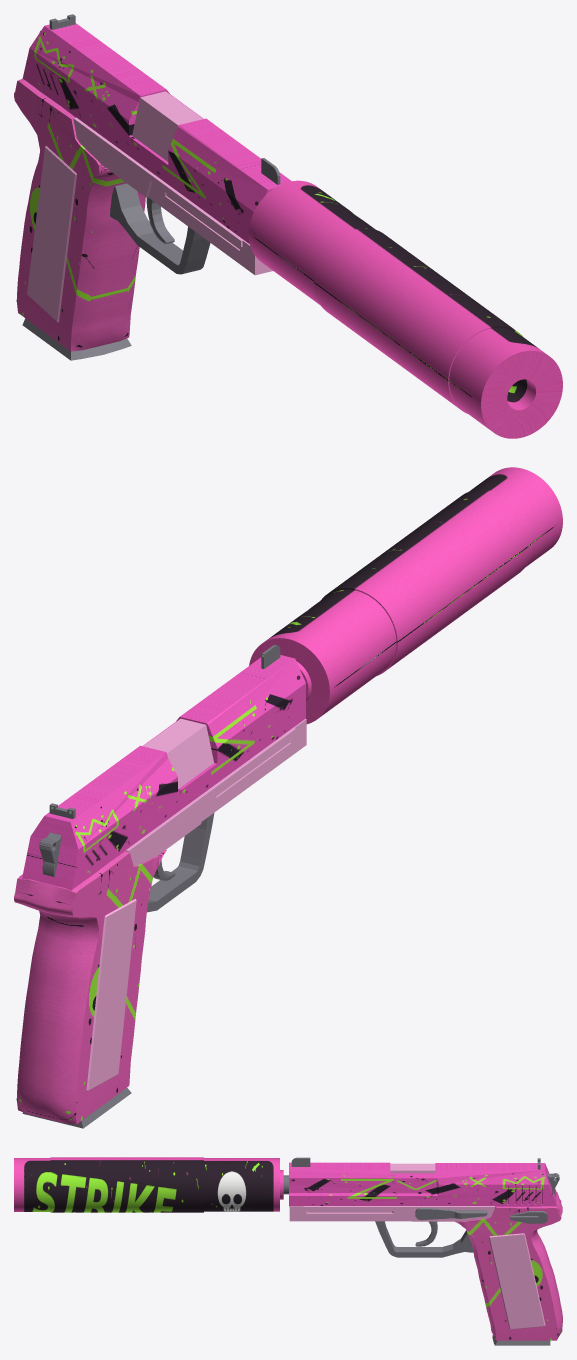
File: usp_s_pinkstrike.glb
3 views of the same model, one above another, from view 1: azimuth 30°, elevation 25°; view 2: azimuth 150°, elevation 25°; view 3: azimuth 270°, elevation 25° (orthographic). The views are drawn at different scales.
Visible parts, largest first — view 1: Suppressor, Slide, Handle, Grip 2, USP-S Body, Trigger Guard, Cube, Mag, Trigger; view 2: Suppressor, Handle, Slide, Grip 2, USP-S Body, Cube, Trigger Guard; view 3: Suppressor, Slide, Handle, Grip 1, USP-S Body, Trigger Guard, Mag Release, Cube, Mag, Safety.
Part boxes in pixels (x1,y1,x2,y2): Suppressor: (248, 180, 562, 438); Slide: (22, 23, 291, 243); Handle: (14, 79, 145, 351); Grip 2: (27, 146, 76, 322); USP-S Body: (73, 117, 272, 275); Trigger Guard: (110, 183, 210, 274); Cube: (132, 91, 202, 161); Mag: (22, 318, 131, 360); Trigger: (146, 197, 174, 243); Suppressor: (249, 467, 562, 724); Handle: (14, 850, 166, 1124); Slide: (22, 655, 305, 890); Grip 2: (86, 899, 136, 1091); USP-S Body: (125, 719, 306, 866); Cube: (143, 718, 213, 788); Trigger Guard: (147, 813, 214, 912); Suppressor: (14, 1157, 283, 1212); Slide: (289, 1162, 556, 1206); Handle: (455, 1192, 562, 1340); Grip 1: (489, 1233, 545, 1329); USP-S Body: (289, 1206, 494, 1221); Trigger Guard: (375, 1221, 473, 1257); Mag Release: (415, 1208, 487, 1220); Cube: (390, 1163, 435, 1173); Mag: (492, 1335, 550, 1345); Safety: (510, 1211, 547, 1223).
Bounding box in the file's own units: 0.6187 × 2.21 × 6.15.
Materials: 26 (4 with a texture image).
